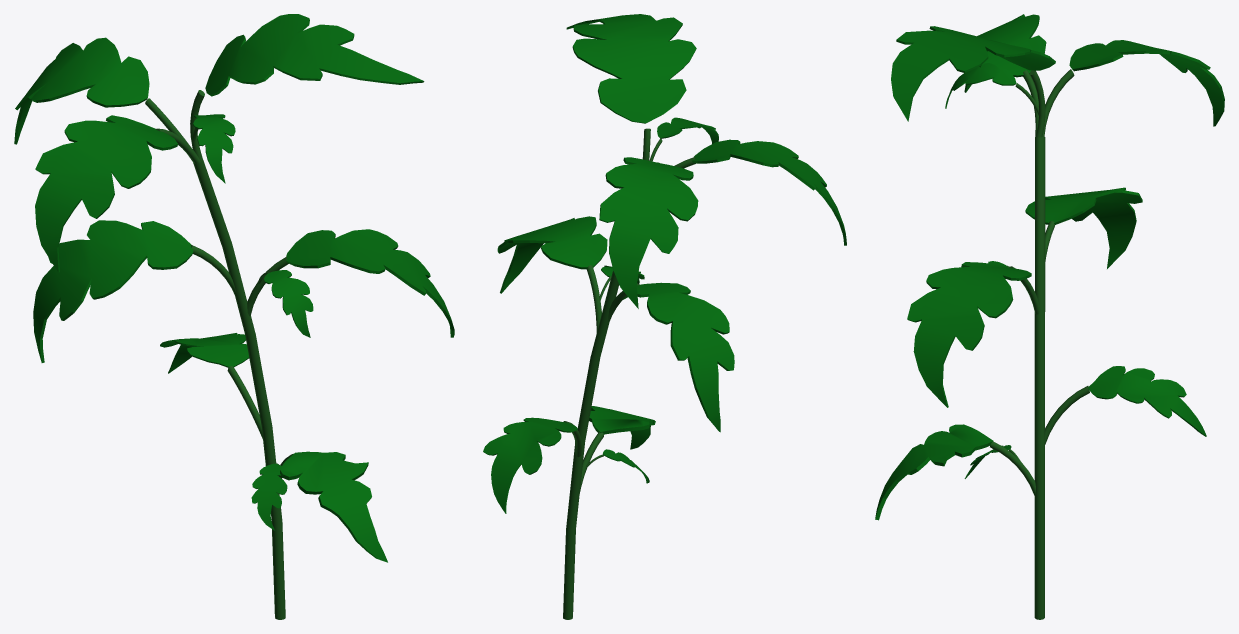
Rendered from 番茄成長2.FBX.
3 renders of one model, left to right at view 1: azimuth 30°, elevation 25°; view 2: azimuth 150°, elevation 25°; view 3: azimuth 270°, elevation 25°, orthographic. The views are drawn at different scales.
Visible parts, largest first — view 1: Line005, Line008, Line006, Line007, Line004, Line002, Cylinder007, Line003, Line009, Line011, Line010; view 2: Line006, Line007, Line008, Line004, Line003, Cylinder007, Line005, Line002, Line011; view 3: Line004, Line006, Cylinder007, Line008, Line003, Line007, Line002, Line005, Line011, Cylinder003, Cylinder009.
Boxes of the visible parts, x1=… form: Line005: x1=35, y1=115, x2=177, y2=272; Line008: x1=33, y1=220, x2=193, y2=362; Line006: x1=205, y1=14, x2=424, y2=96; Line007: x1=14, y1=37, x2=149, y2=144; Line004: x1=285, y1=229, x2=454, y2=337; Line002: x1=280, y1=451, x2=387, y2=562; Cylinder007: x1=193, y1=159, x2=285, y2=619; Line003: x1=160, y1=333, x2=249, y2=373; Line009: x1=264, y1=270, x2=313, y2=337; Line011: x1=193, y1=114, x2=235, y2=183; Line010: x1=251, y1=463, x2=287, y2=530; Line006: x1=566, y1=14, x2=696, y2=123; Line007: x1=599, y1=157, x2=698, y2=308; Line008: x1=636, y1=282, x2=734, y2=432; Line004: x1=497, y1=216, x2=607, y2=293; Line003: x1=483, y1=417, x2=577, y2=513; Cylinder007: x1=563, y1=271, x2=619, y2=619; Line005: x1=691, y1=139, x2=846, y2=245; Line002: x1=589, y1=406, x2=655, y2=449; Line011: x1=657, y1=117, x2=718, y2=143; Line004: x1=907, y1=262, x2=1031, y2=407; Line006: x1=891, y1=26, x2=1055, y2=121; Cylinder007: x1=1034, y1=136, x2=1045, y2=619; Line008: x1=1025, y1=187, x2=1142, y2=268; Line003: x1=1088, y1=366, x2=1206, y2=436; Line007: x1=1069, y1=40, x2=1224, y2=126; Line002: x1=875, y1=424, x2=993, y2=520; Line005: x1=964, y1=14, x2=1046, y2=92; Line011: x1=945, y1=63, x2=1016, y2=108; Cylinder003: x1=1044, y1=386, x2=1089, y2=444; Cylinder009: x1=1029, y1=70, x2=1045, y2=137.
Size of the model in its own units: 52.76 by 78.14 by 43.68.
